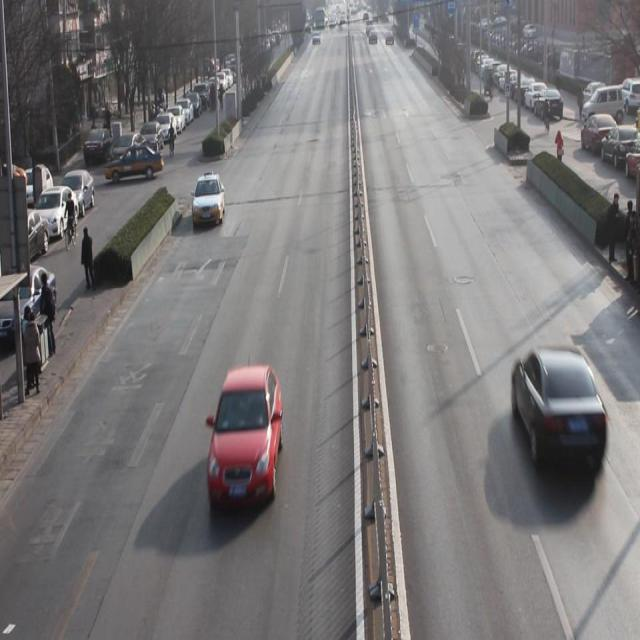car: (510, 348, 610, 476), (208, 365, 283, 512), (190, 167, 227, 228)
